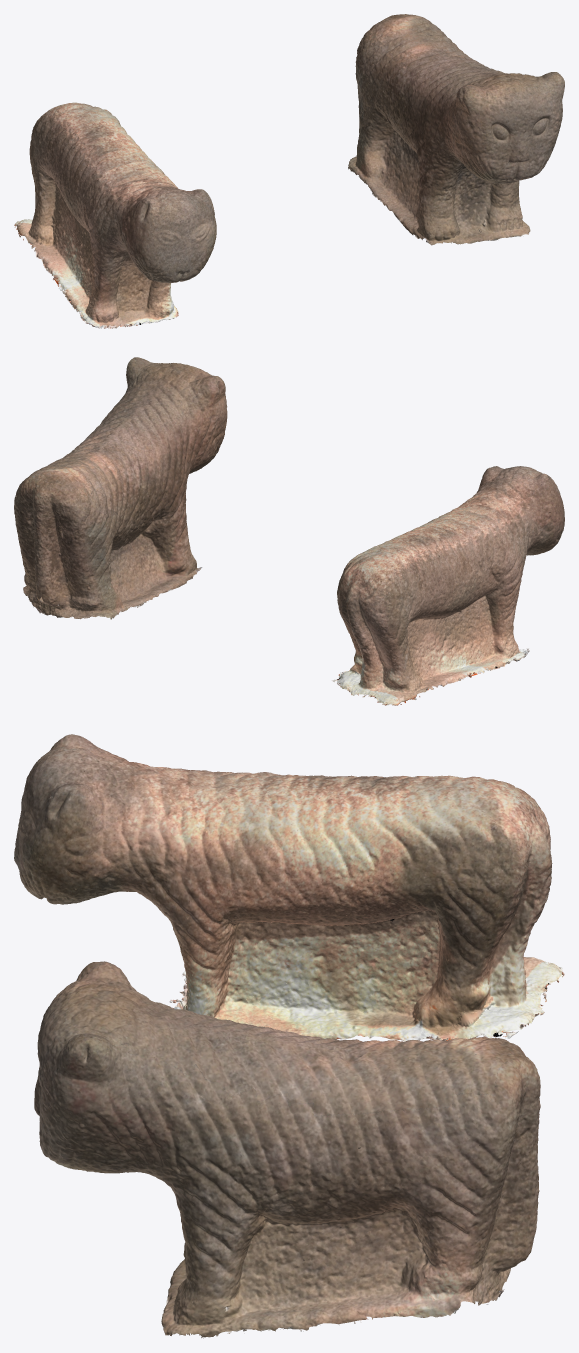
File: scan-pair.glb
The picture shows the model from 3 angles, top to bottom: view 1: azimuth 30°, elevation 25°; view 2: azimuth 150°, elevation 25°; view 3: azimuth 270°, elevation 25°; orthographic projection. The views are drawn at different scales.
Parts seen in each view (by area): view 1: Gongju original male scan, Gongju original female scan; view 2: Gongju original male scan, Gongju original female scan; view 3: Gongju original male scan, Gongju original female scan.
Part boxes in pixels (x1,y1,x2,y2): Gongju original male scan: (348,14,564,245); Gongju original female scan: (14,102,216,328); Gongju original male scan: (14,357,227,619); Gongju original female scan: (332,466,564,705); Gongju original male scan: (34,961,540,1338); Gongju original female scan: (14,734,564,1041).
Bounding box in the file's own units: 1.82 × 0.717 × 1.16.
Materials: 2 (2 with a texture image).
